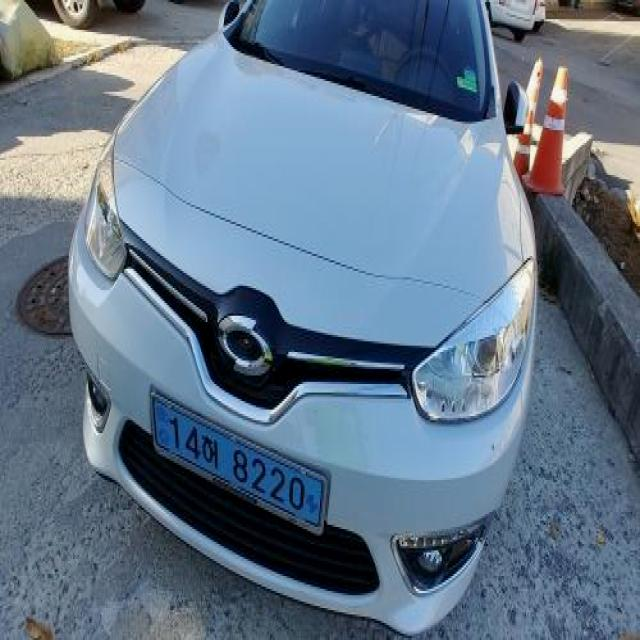EV_plate: (148, 382, 333, 548)
car: (67, 1, 543, 640)
